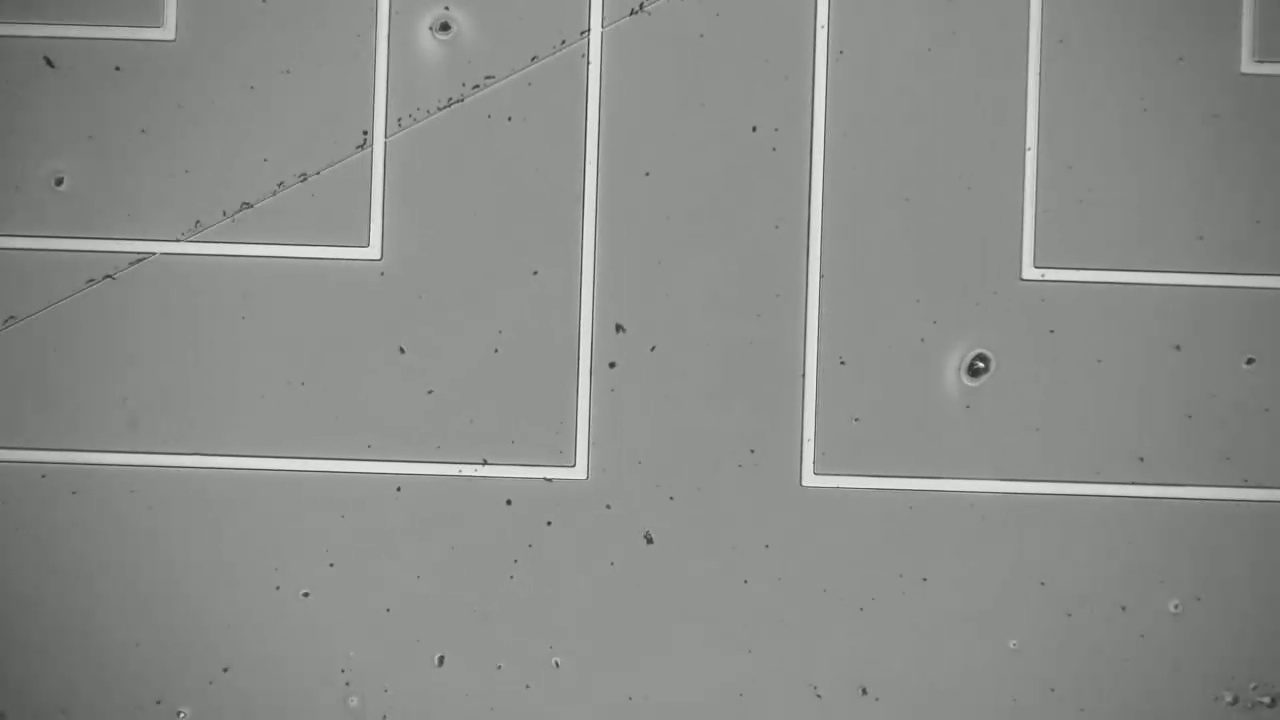scratch: (8, 5, 639, 333)
